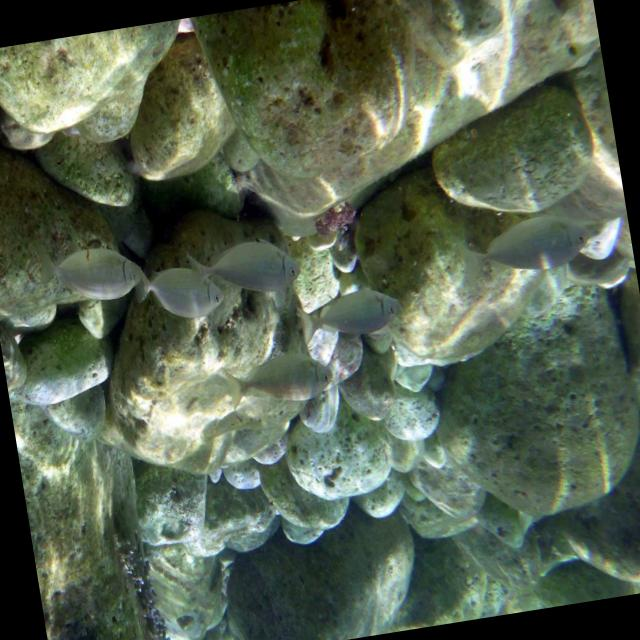Sokar Baligi: (426, 212, 614, 298), (276, 274, 427, 360), (24, 210, 146, 316), (176, 236, 314, 310)
